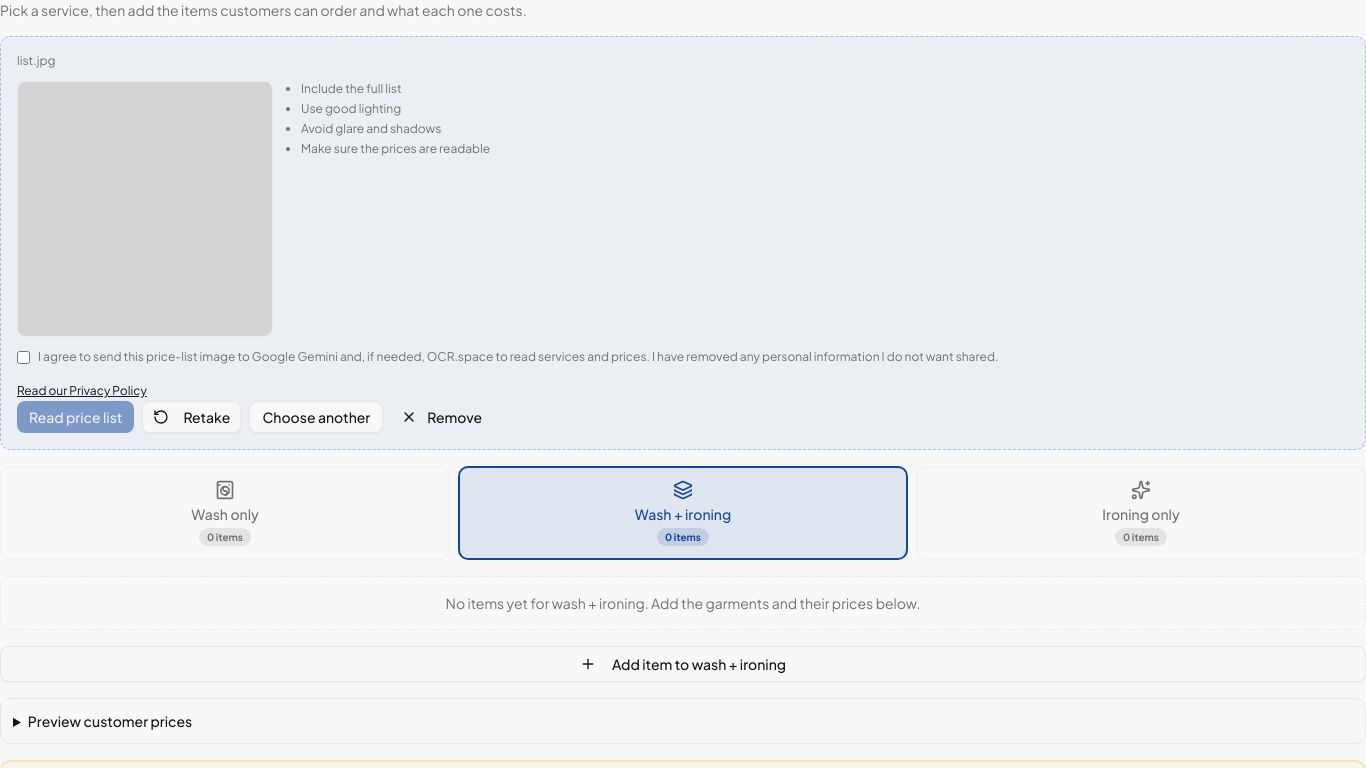
onboarding: scan fills the existing pricing form (nothing saved) › applies unstated rows to the service tab the owner is on
Earlier steps of the test are not shown.
Click the checkbox labelled "agree to send this price-list image" at (24, 358), box [17,351,30,364]
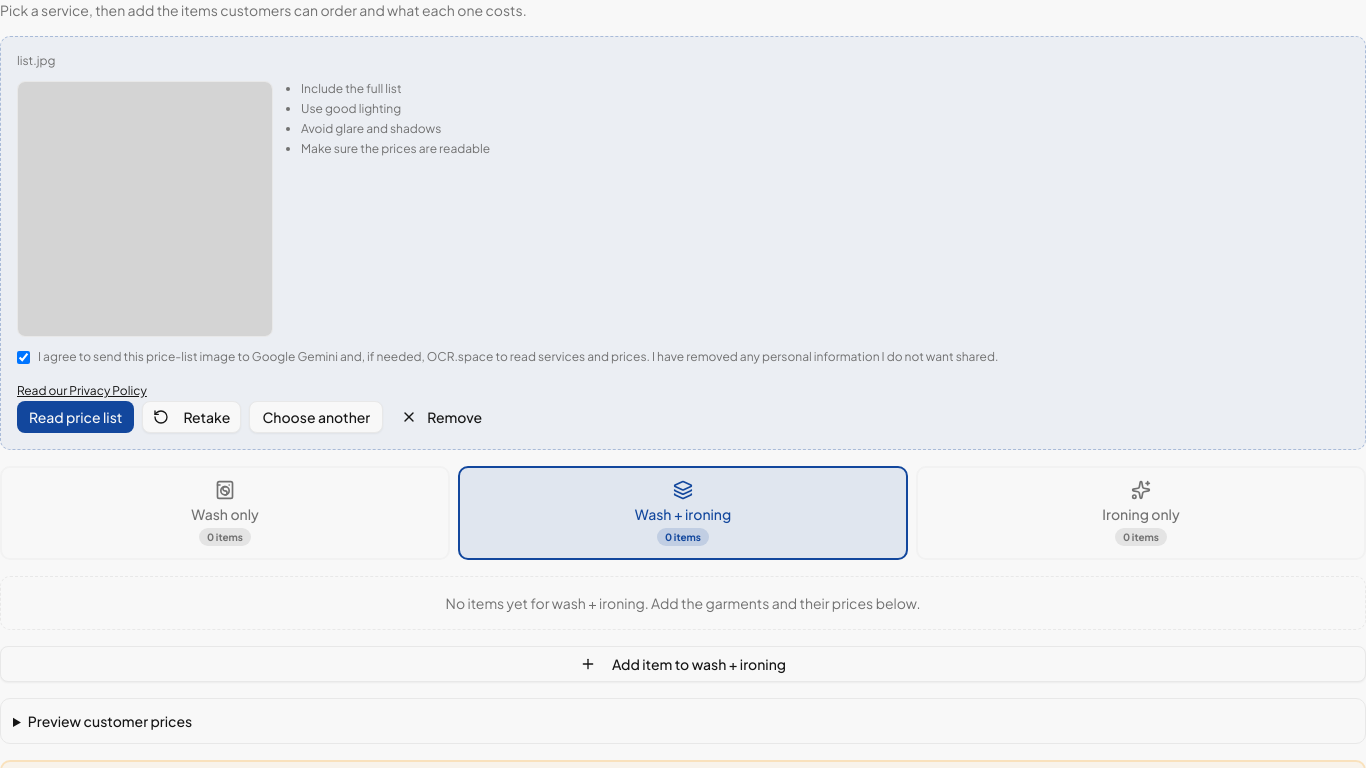
Click the button "Read price list" at (76, 417), box [17,401,134,433]
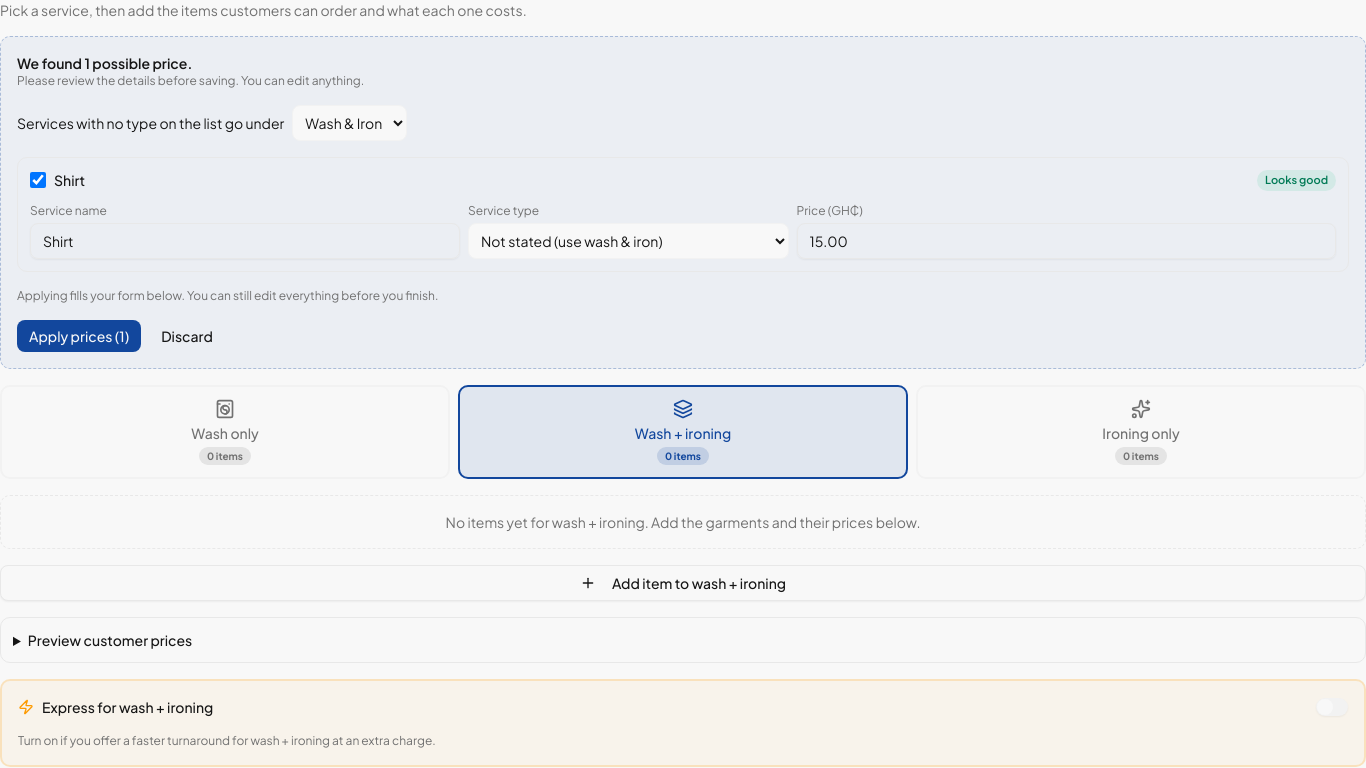
Now the text "We found 1 possible price." is shown, box [17,54,192,72]
Click the button "Apply prices (1)" at (79, 336), box [17,320,141,352]
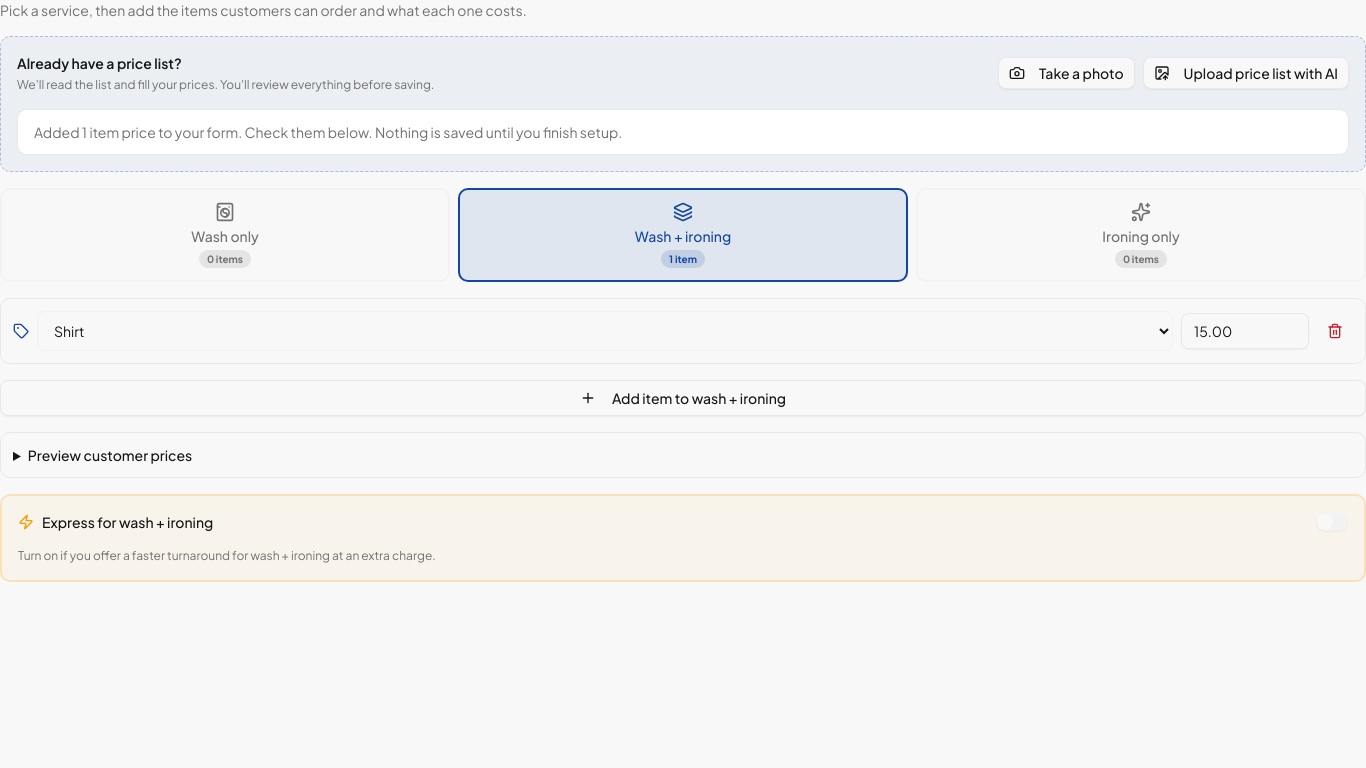
Now the text "to your form" is shown, box [34,123,622,141]
